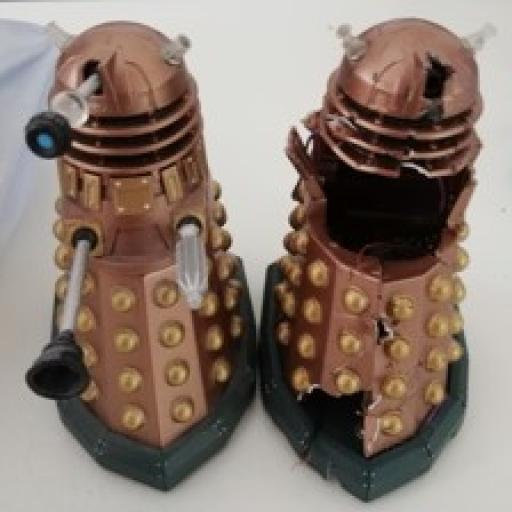dalek: (258, 15, 494, 502), (21, 19, 259, 491)
